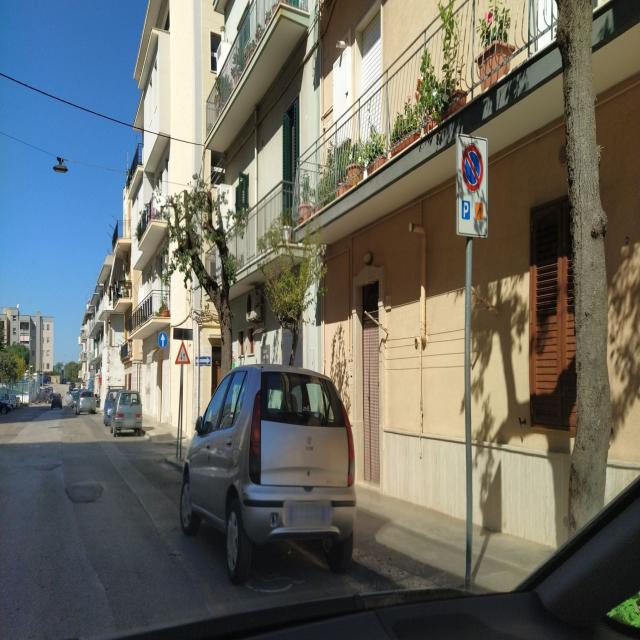forb_stopping: (460, 141, 485, 194)
